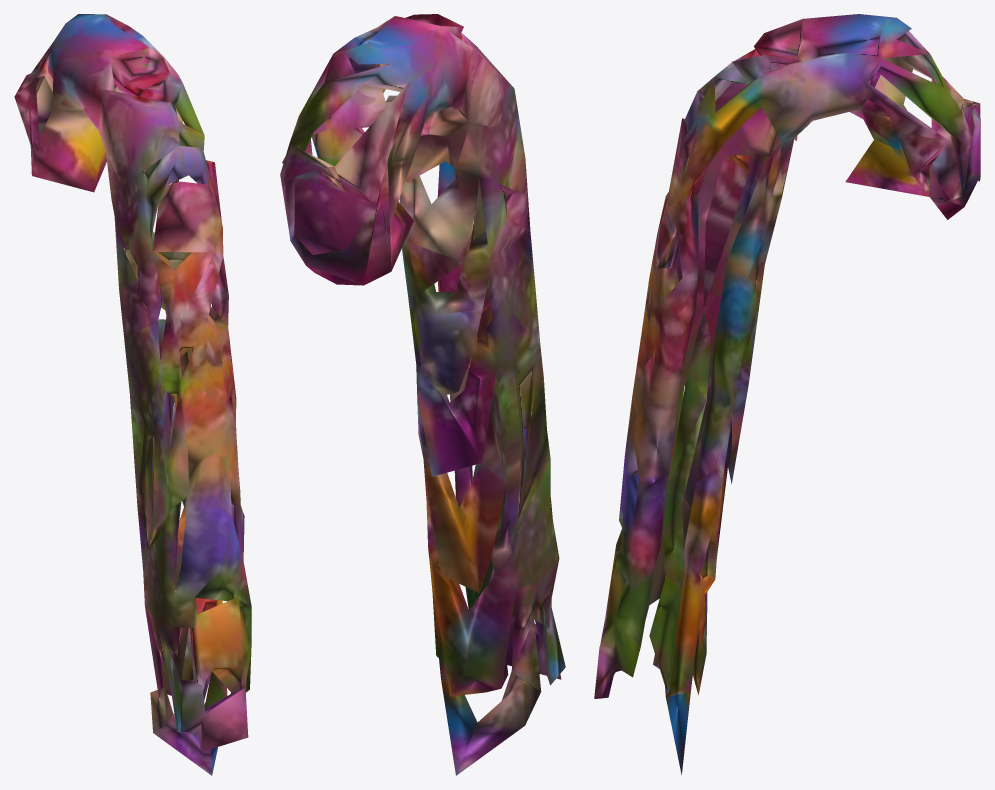
Rendered from candy_stick.glb.
The picture shows the model from 3 angles, left to right: view 1: azimuth 30°, elevation 25°; view 2: azimuth 150°, elevation 25°; view 3: azimuth 270°, elevation 25°; orthographic projection. The views are drawn at different scales.
Parts seen in each view (by area): view 1: tripo_node_329ab693-1a45-44be-a2f4-487a8675f71a; view 2: tripo_node_329ab693-1a45-44be-a2f4-487a8675f71a; view 3: tripo_node_329ab693-1a45-44be-a2f4-487a8675f71a.
Boxes of the visible parts, bbox=[...] form: tripo_node_329ab693-1a45-44be-a2f4-487a8675f71a: bbox=[14, 14, 251, 775]; tripo_node_329ab693-1a45-44be-a2f4-487a8675f71a: bbox=[280, 14, 565, 775]; tripo_node_329ab693-1a45-44be-a2f4-487a8675f71a: bbox=[594, 14, 980, 774].
Size of the model in its own units: 0.135 by 0.987 by 0.4663.
1 material, 1 textured.
